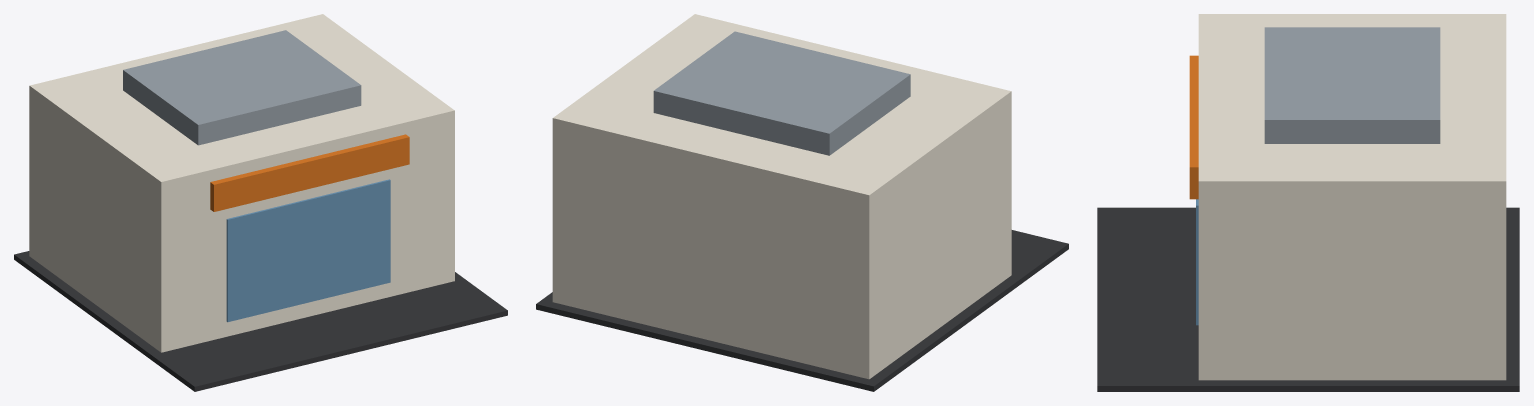
The model's file is zone_C_d3_e3.glb.
The picture shows the model from 3 angles, left to right: view 1: azimuth 30°, elevation 25°; view 2: azimuth 150°, elevation 25°; view 3: azimuth 270°, elevation 25°; orthographic projection. The views are drawn at different scales.
Visible parts, largest first — view 1: zone_C_d3_e3; view 2: zone_C_d3_e3; view 3: zone_C_d3_e3.
Part boxes in pixels (x1,y1,x2,y2): zone_C_d3_e3: (14,14,507,391); zone_C_d3_e3: (536,14,1068,391); zone_C_d3_e3: (1097,14,1519,391).
Size of the model in its own units: 0.96 by 0.575 by 0.96.
